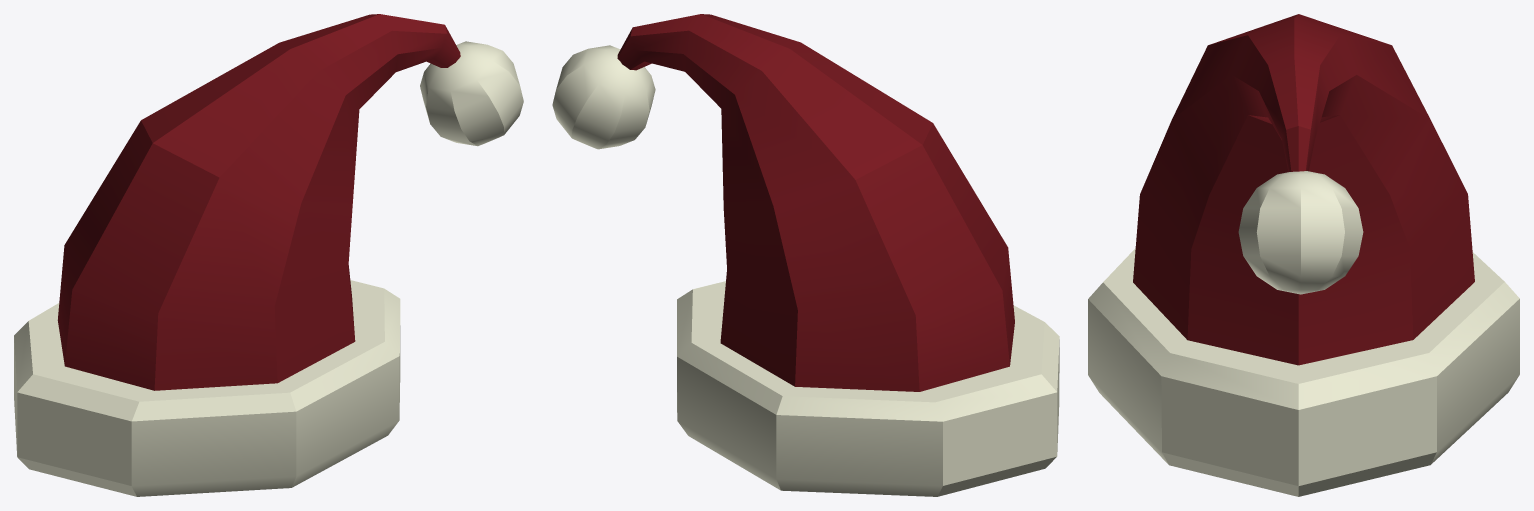
File: Santa_hat.fbx
3 views of the same model, side by side, from view 1: azimuth 30°, elevation 25°; view 2: azimuth 150°, elevation 25°; view 3: azimuth 270°, elevation 25° (orthographic). The views are drawn at different scales.
Visible parts, largest first — view 1: Santa_hat; view 2: Santa_hat; view 3: Santa_hat.
Boxes of the visible parts, x1=… form: Santa_hat: x1=14, y1=14, x2=523, y2=496; Santa_hat: x1=552, y1=14, x2=1059, y2=496; Santa_hat: x1=1088, y1=14, x2=1519, y2=496.
Bounding box in the file's own units: 0.2834 × 0.2006 × 0.1797.
